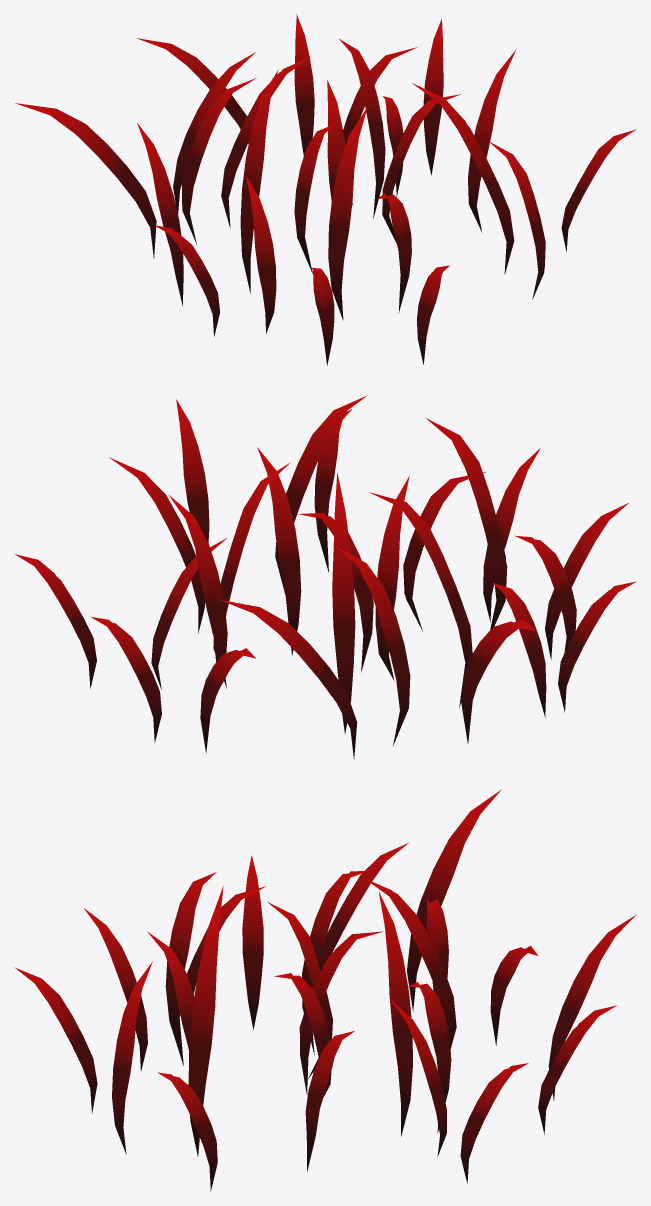
File: grass.fbx
3 renders of one model, top to bottom at view 1: azimuth 30°, elevation 25°; view 2: azimuth 150°, elevation 25°; view 3: azimuth 270°, elevation 25°, orthographic. The views are drawn at different scales.
Visible parts, largest first — view 1: Grass; view 2: Grass; view 3: Grass.
Boxes of the visible parts, x1,y1,x2,y2 form: Grass: (15, 14, 636, 365); Grass: (15, 395, 636, 759); Grass: (14, 789, 636, 1191).
Size of the model in its own units: 8.07 by 3.77 by 8.38.
